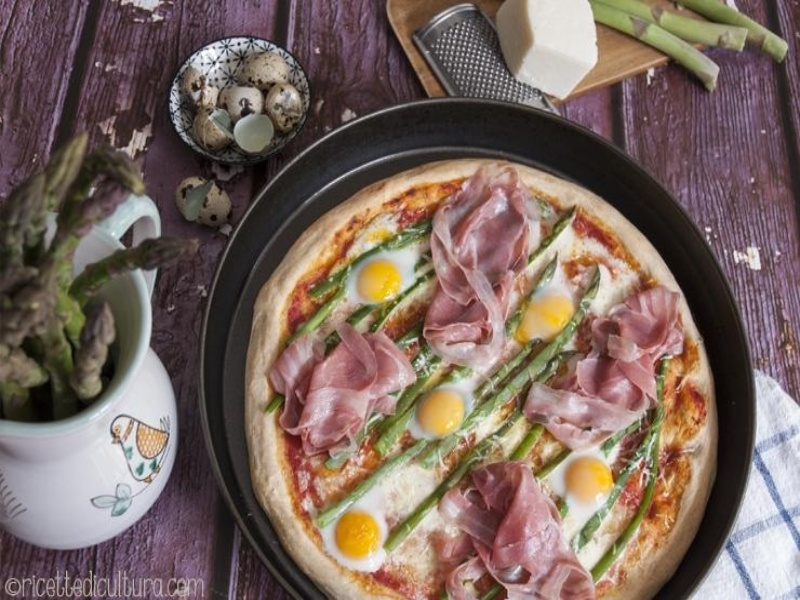oeuf: (410, 382, 485, 441), (554, 451, 623, 510), (327, 508, 395, 565), (514, 287, 574, 341), (356, 256, 417, 303)
